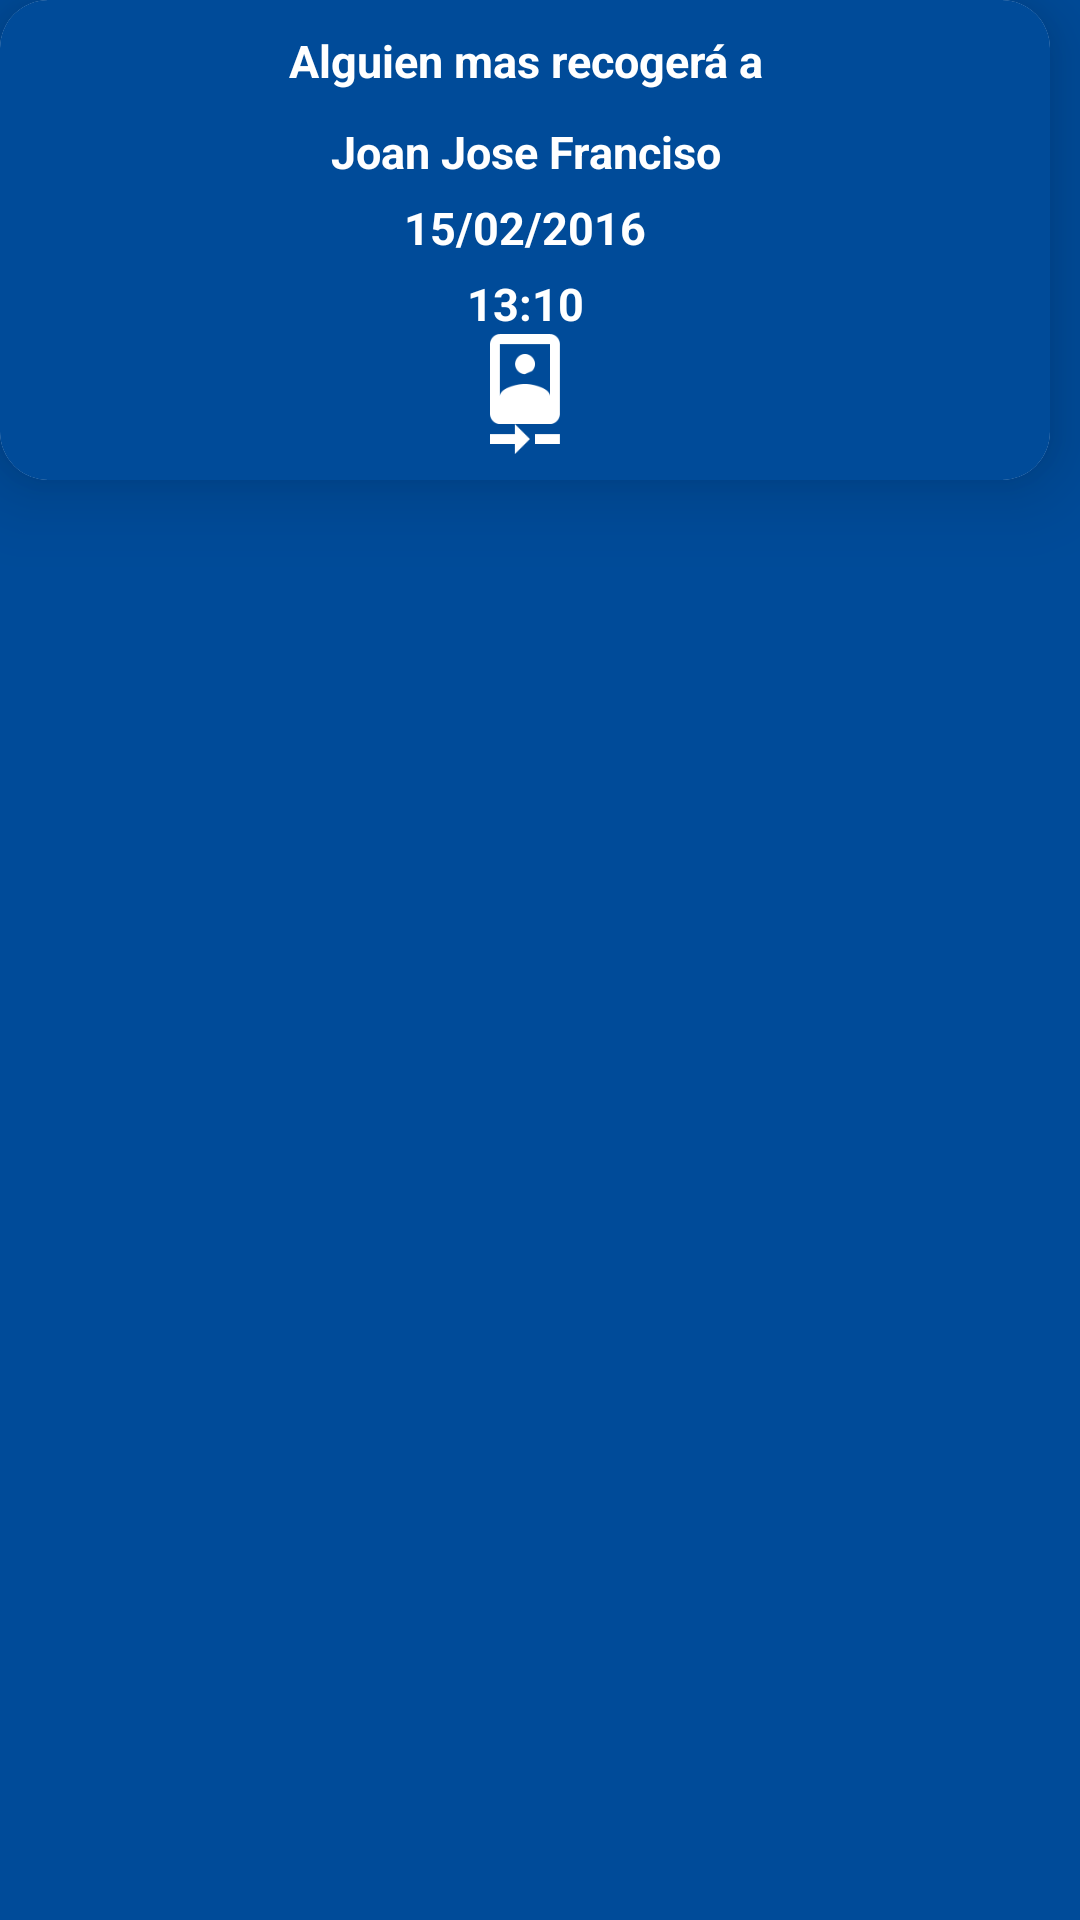

Icons on this 1080px x 1920px Android screen, each with the point to tap as [x,y]:
camera front: [525,394]
